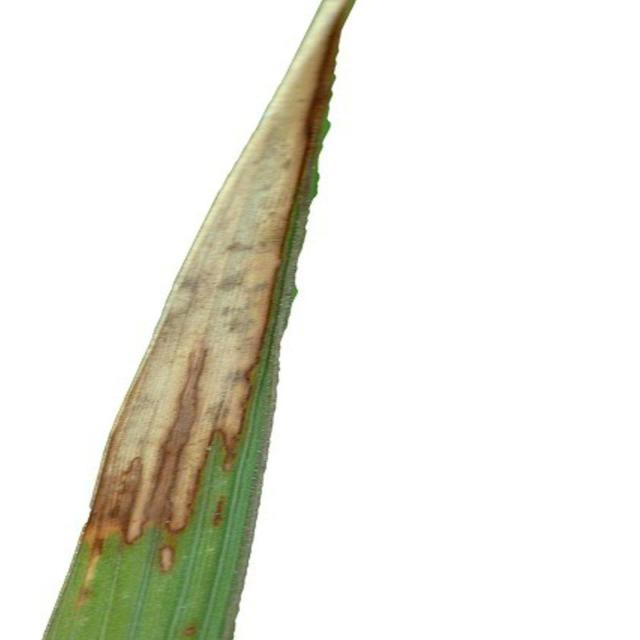Leaf scald: (2, 0, 460, 640)
